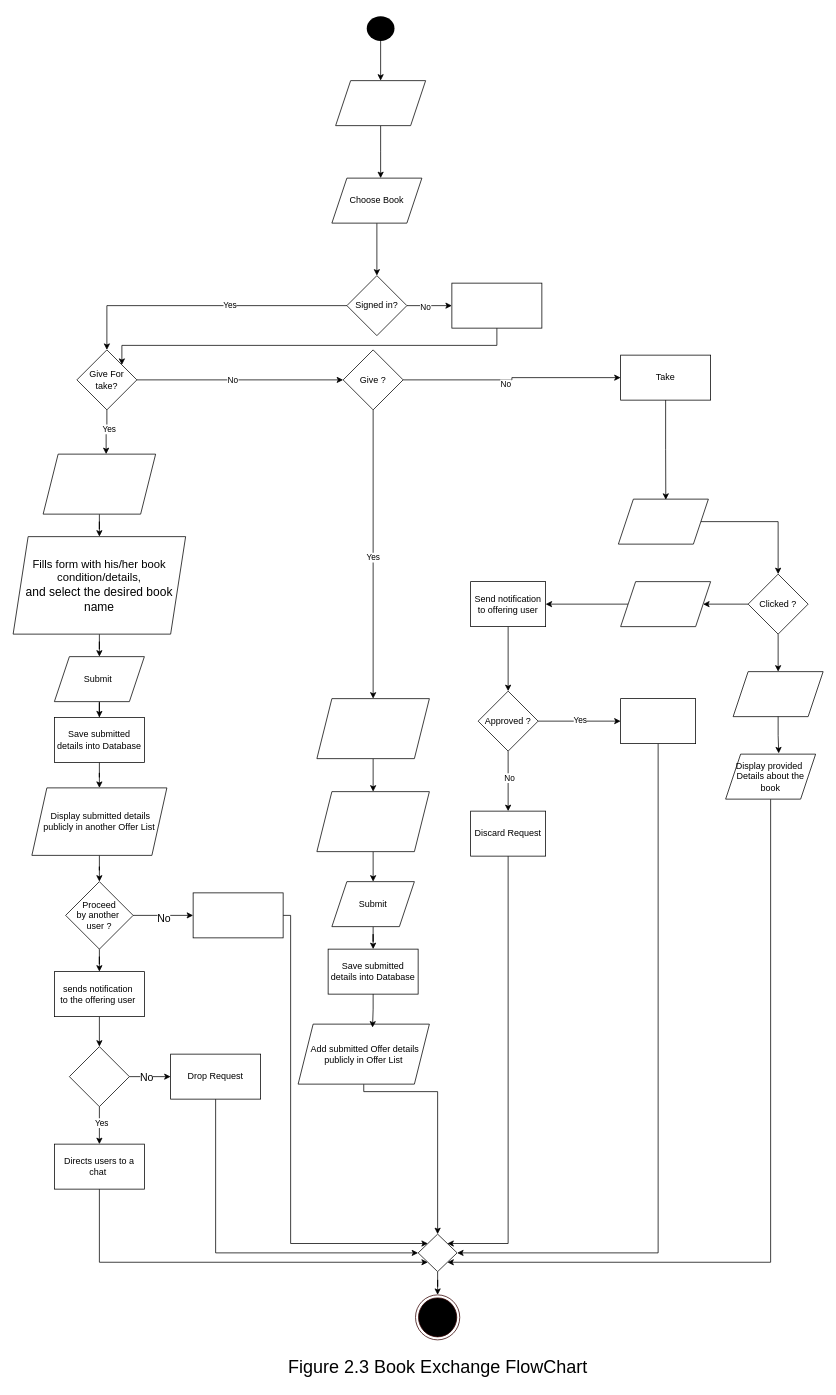
Image size: 836x1395. Some labels were removed from this diagram. Here are the shapes that lost their labels. From the top down, the centre of each, then its label:
pixel 380 103: Display Books
pixel 496 305: Sign in
pixel 99 483: Display a form
pixel 663 521: Display Offer List
pixel 665 604: Request
pixel 777 694: Clicks Details
pixel 372 728: Outputs empty text box for book detail
pixel 658 721: Redirect users to a chat
pixel 372 821: Type book conditins/details in a text box
pixel 237 915: Delete Offer after 15 days
pixel 99 1076: Approved?
